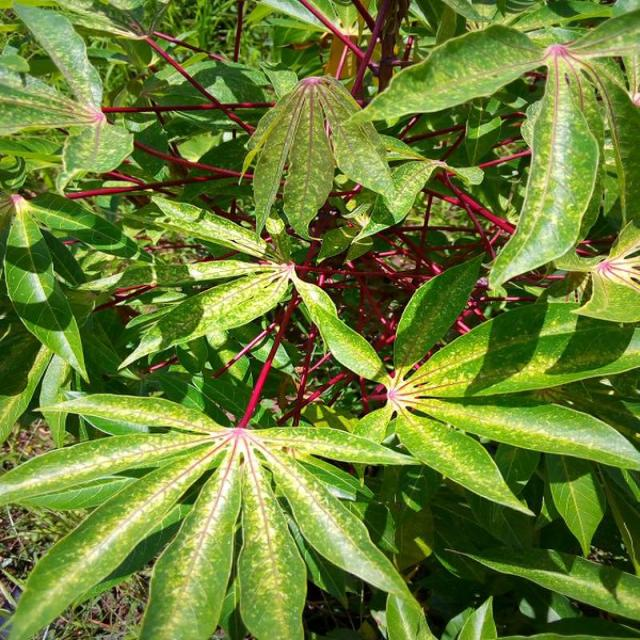cassava leaf: (1, 1, 638, 637), (486, 48, 602, 290), (243, 73, 394, 241)
